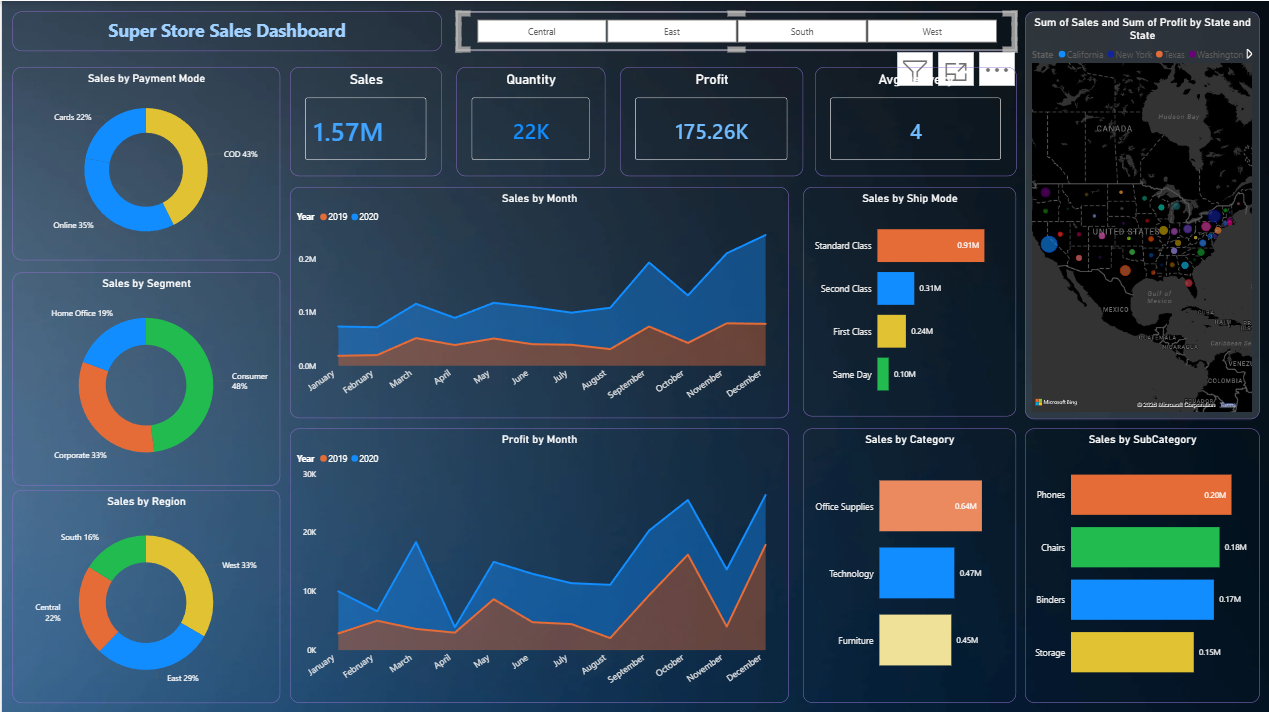

What the dashboard file says about the page in this screenshot:
{"tool":"powerbi","page":{"name":"Dashboard","canvas":[1920,1080],"ordinal":0},"visuals":[{"type":"clusteredBarChart","title":"Sales by Category","fields":{"Category":["Sheet1.Category"],"Y":["Sum(Sheet1.Sales)"]},"box":[1212.5,647.5,322.5,415],"z":0},{"type":"clusteredBarChart","title":"Sales by SubCategory","fields":{"Category":["Sheet1.Sub-Category"],"Y":["Sum(Sheet1.Sales)"]},"box":[1550,647.5,355,415],"z":1000},{"type":"clusteredBarChart","title":"Sales by Ship Mode","fields":{"Category":["Sheet1.Ship Mode"],"Y":["Sum(Sheet1.Sales)"]},"box":[1212.5,282.5,322.5,347.5],"z":2000},{"type":"stackedAreaChart","title":"Profit by Month","fields":{"Category":["Sheet1.Order Date.Variation.Date Hierarchy.Month","Sheet1.Order Date.Variation.Date Hierarchy.Day"],"Series":["Sheet1.Order Date.Variation.Date Hierarchy.Year"],"Y":["Sum(Sheet1.Profit)"]},"box":[435,647.5,755,415],"z":3000},{"type":"map","fields":{"Category":["Sheet1.State"],"Series":["Sheet1.State"],"Size":["Sum(Sheet1.Sales)"]},"box":[1550,15,355,617.5],"z":4000},{"type":"stackedAreaChart","title":"Sales by Month","fields":{"Category":["Sheet1.Order Date.Variation.Date Hierarchy.Month","Sheet1.Order Date.Variation.Date Hierarchy.Day"],"Series":["Sheet1.Order Date.Variation.Date Hierarchy.Year"],"Y":["Sum(Sheet1.Sales)"]},"box":[435,282.5,755,350],"z":5000},{"type":"donutChart","title":"Sales by Segment","fields":{"Category":["Sheet1.Segment"],"Y":["Sum(Sheet1.Sales)"]},"box":[15,410,405,322.5],"z":6000},{"type":"donutChart","title":"Sales by Payment Mode","fields":{"Category":["Sheet1.Payment Mode"],"Y":["Sum(Sheet1.Sales)"]},"box":[15,100,405,292.5],"z":7000},{"type":"slicer","fields":{"Values":["Sheet1.Region"]},"box":[687.5,15,847.5,60],"z":8000},{"type":"textbox","box":[15,15,650,60],"z":9000},{"type":"cardVisual","title":"Sales","fields":{"Data":["Sum(Sheet1.Sales)"]},"box":[435,100,230,165],"z":10000},{"type":"cardVisual","title":"Quantity","fields":{"Data":["Sum(Sheet1.Quantity)"]},"box":[687.5,100,225,165],"z":11000},{"type":"cardVisual","title":"Profit","fields":{"Data":["Sum(Sheet1.Profit)"]},"box":[935,100,277.5,165],"z":12000},{"type":"cardVisual","title":"Avg Delivery","fields":{"Data":["Avg(Sheet1.AvgDelivery)"]},"box":[1230,100,305,165],"z":13000},{"type":"donutChart","title":"Sales by Region","fields":{"Y":["Sum(Sheet1.Sales)"],"Category":["Sheet1.Region"]},"box":[15,740,405,322.5],"z":14000}]}

Visuals, with their boxes in screenshot pixels (x1, y1, x2, y2), scaled from the page's 1920x1080 canvas onto the 1269x712 screenshot:
"Sales by Category" clusteredBarChart: [x1=801, y1=427, x2=1015, y2=700]
"Sales by SubCategory" clusteredBarChart: [x1=1024, y1=427, x2=1259, y2=700]
"Sales by Ship Mode" clusteredBarChart: [x1=801, y1=186, x2=1015, y2=415]
"Profit by Month" stackedAreaChart: [x1=288, y1=427, x2=787, y2=700]
map - Sheet1.State x Sheet1.State: [x1=1024, y1=10, x2=1259, y2=417]
"Sales by Month" stackedAreaChart: [x1=288, y1=186, x2=787, y2=417]
"Sales by Segment" donutChart: [x1=10, y1=270, x2=278, y2=483]
"Sales by Payment Mode" donutChart: [x1=10, y1=66, x2=278, y2=259]
slicer - Sheet1.Region: [x1=454, y1=10, x2=1015, y2=49]
textbox: [x1=10, y1=10, x2=440, y2=49]
"Sales" cardVisual: [x1=288, y1=66, x2=440, y2=175]
"Quantity" cardVisual: [x1=454, y1=66, x2=603, y2=175]
"Profit" cardVisual: [x1=618, y1=66, x2=801, y2=175]
"Avg Delivery" cardVisual: [x1=813, y1=66, x2=1015, y2=175]
"Sales by Region" donutChart: [x1=10, y1=488, x2=278, y2=700]
